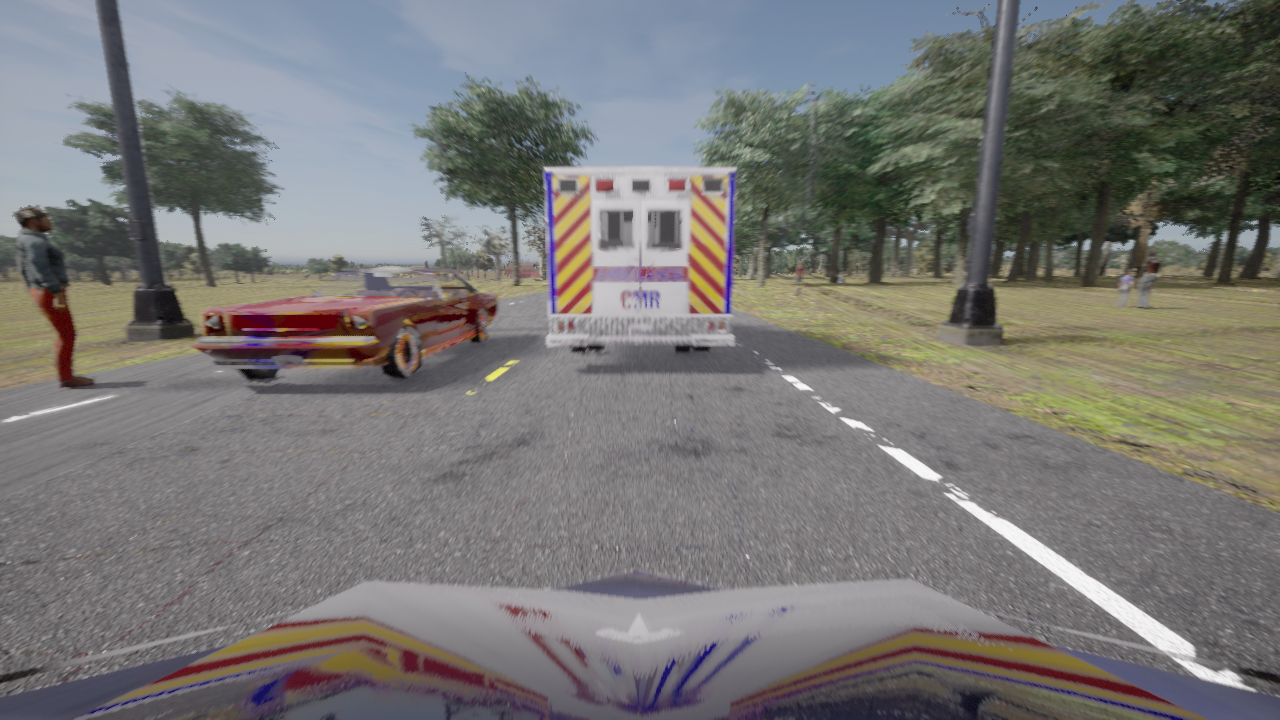cyclist: (0, 570, 1279, 719), (544, 167, 735, 353), (189, 267, 497, 380)
pedestrian: (15, 207, 94, 388), (1132, 250, 1161, 308), (1116, 270, 1132, 307), (795, 261, 804, 294), (839, 273, 842, 287)
